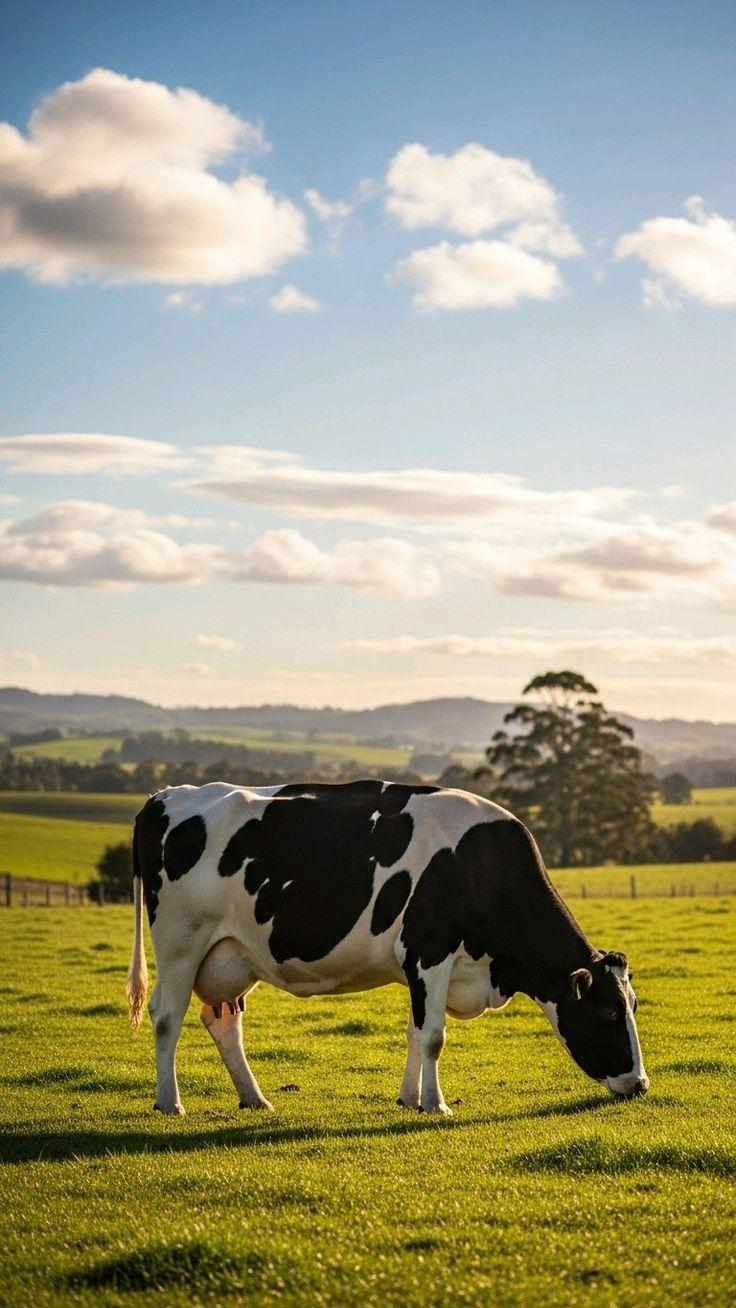cow: (128, 780, 648, 1113)
